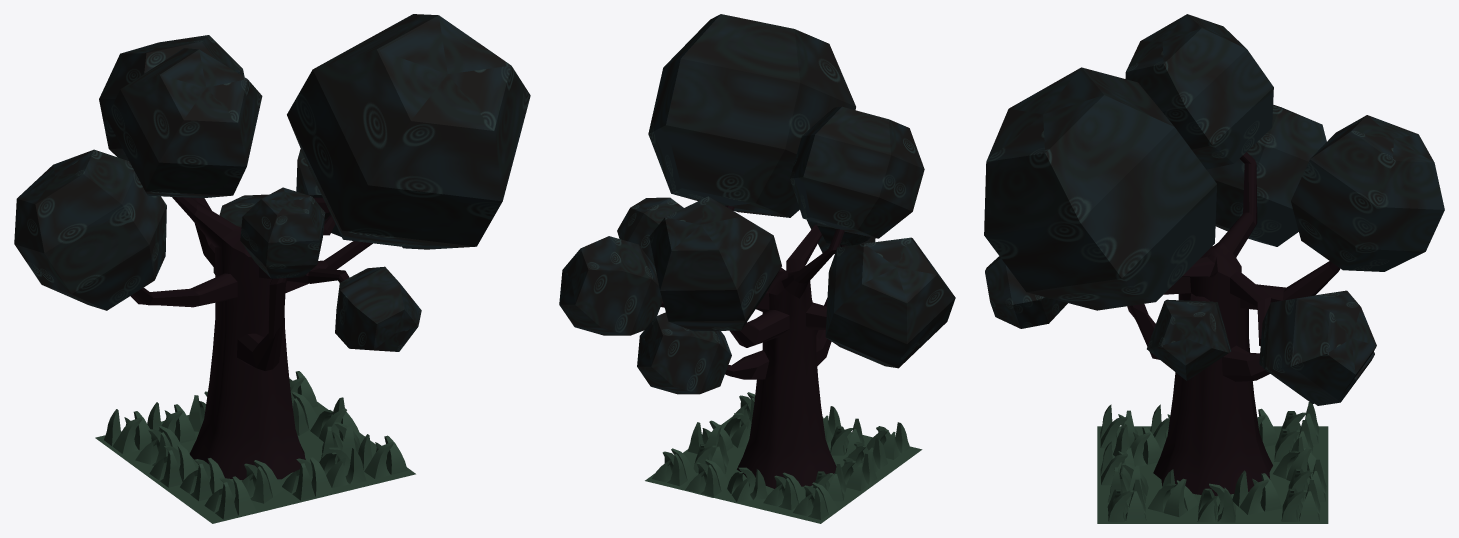
Rendered from Cartoon Tree 1x1.fbx.
The picture shows the model from 3 angles, left to right: view 1: azimuth 30°, elevation 25°; view 2: azimuth 150°, elevation 25°; view 3: azimuth 270°, elevation 25°; orthographic projection. The views are drawn at different scales.
Visible parts, largest first — view 1: polySurface113; view 2: polySurface113; view 3: polySurface113.
Part boxes in pixels (x1,y1,x2,y2): polySurface113: [14, 14, 530, 523]; polySurface113: [559, 14, 955, 523]; polySurface113: [984, 14, 1444, 523].
Bounding box in the file's own units: 150 × 157 × 149.
